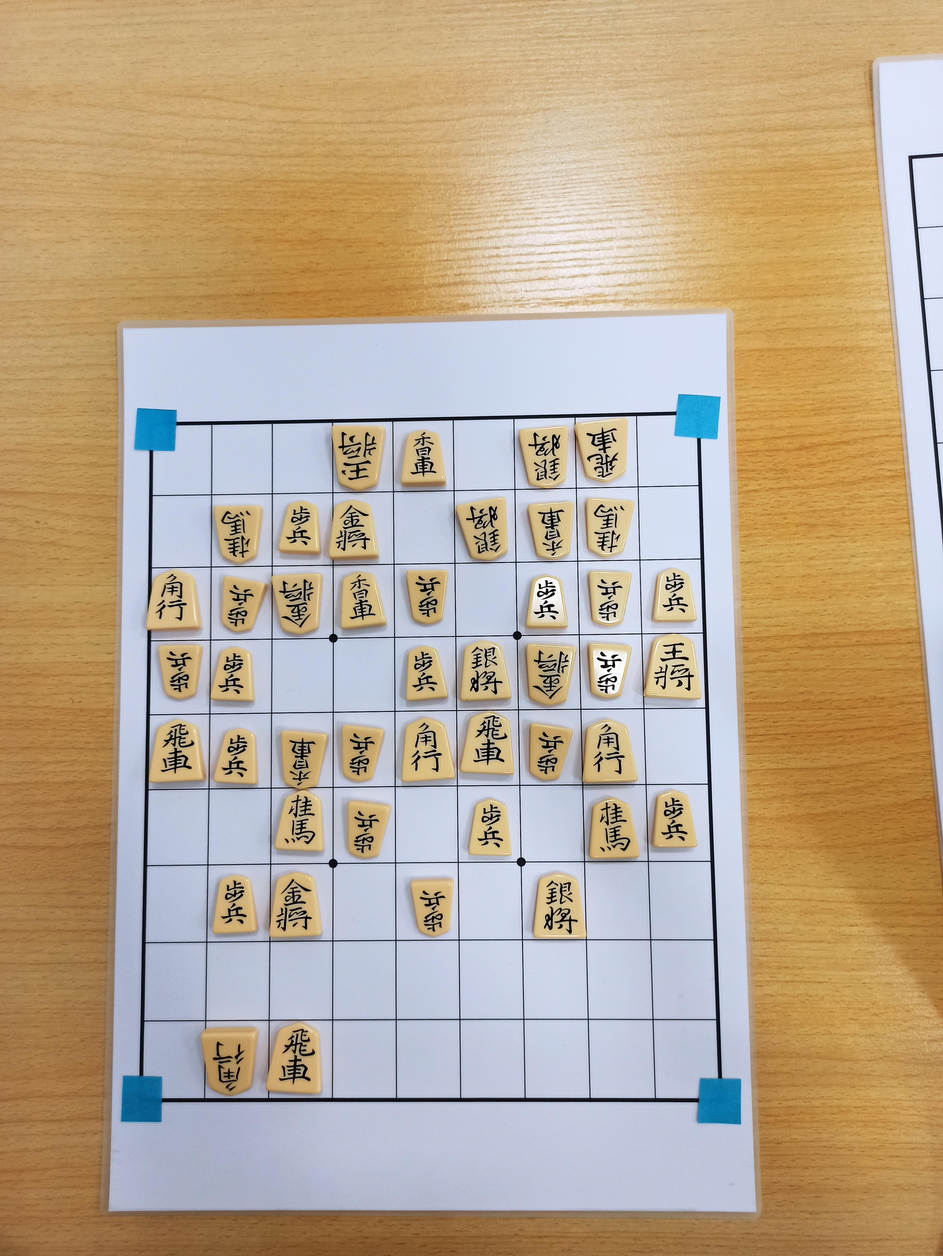board: (139, 414, 719, 1103)
